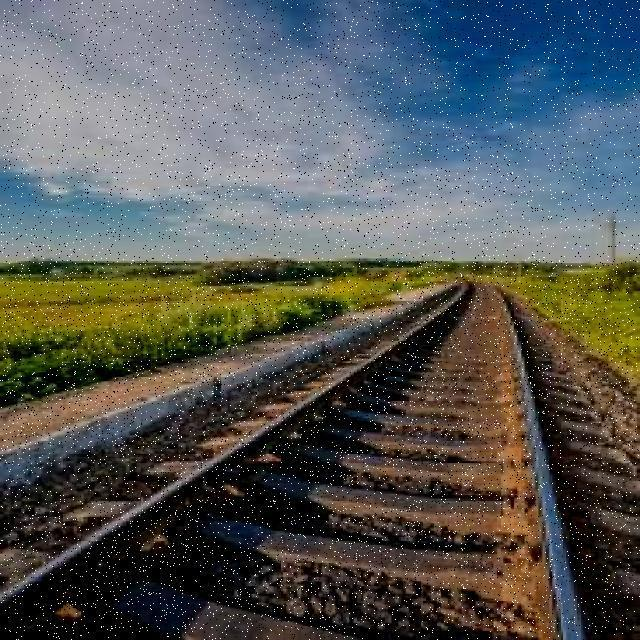rail: (4, 261, 635, 632)
